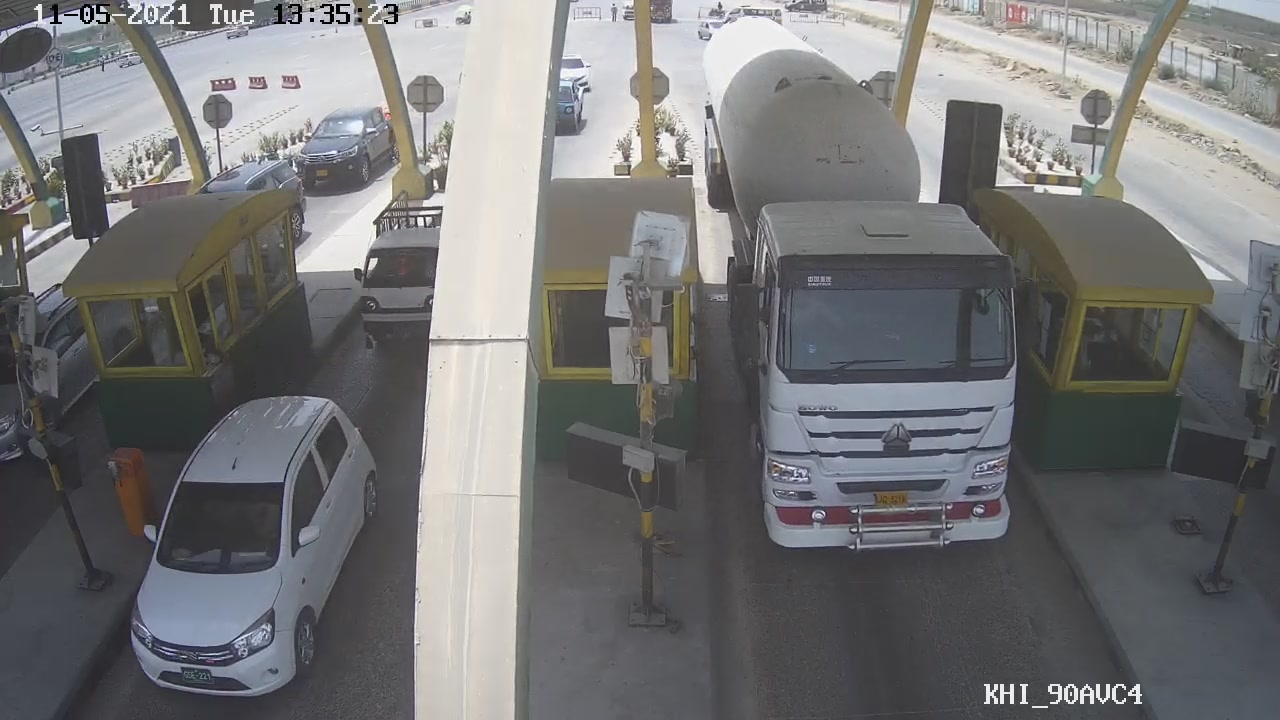F6: (689, 17, 1021, 546)
